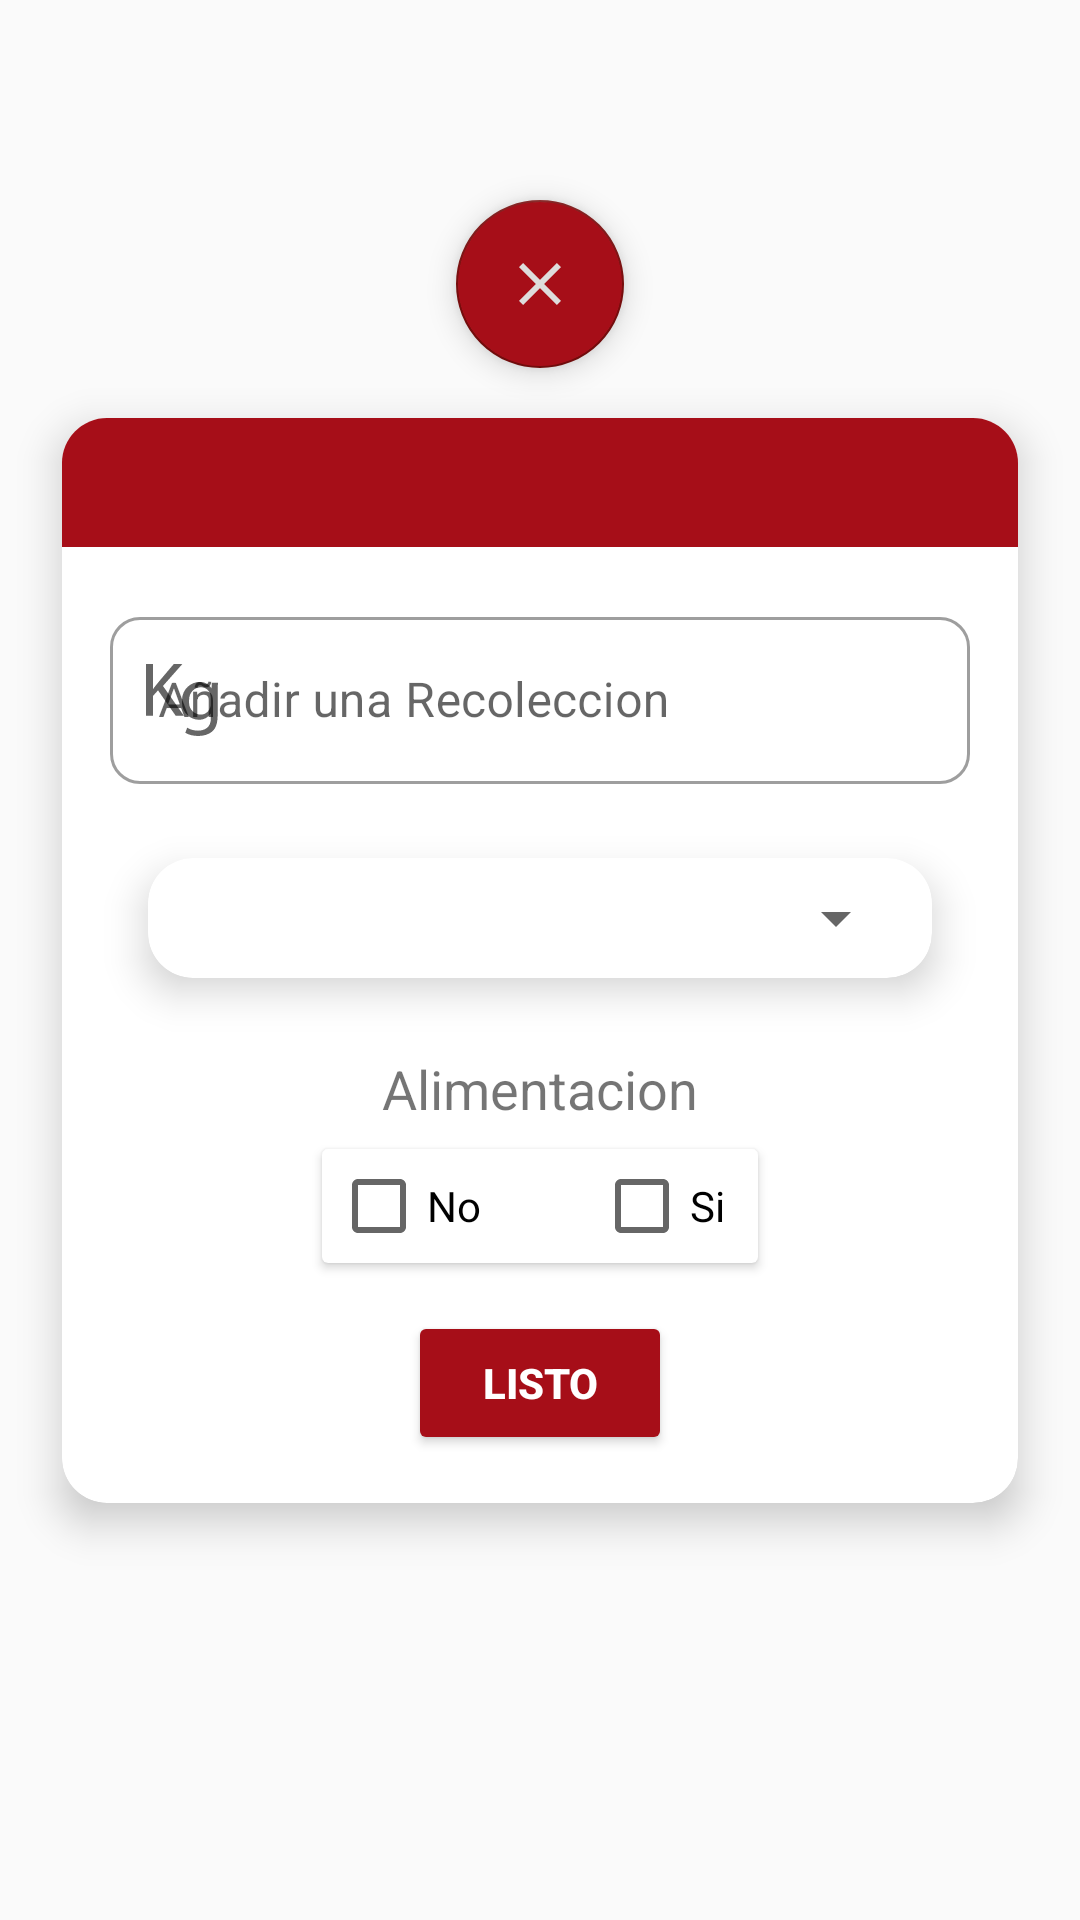

Point at icon controls on the screen. Image size 1080×1920, points as point (x, y).
close: point (540, 284)
